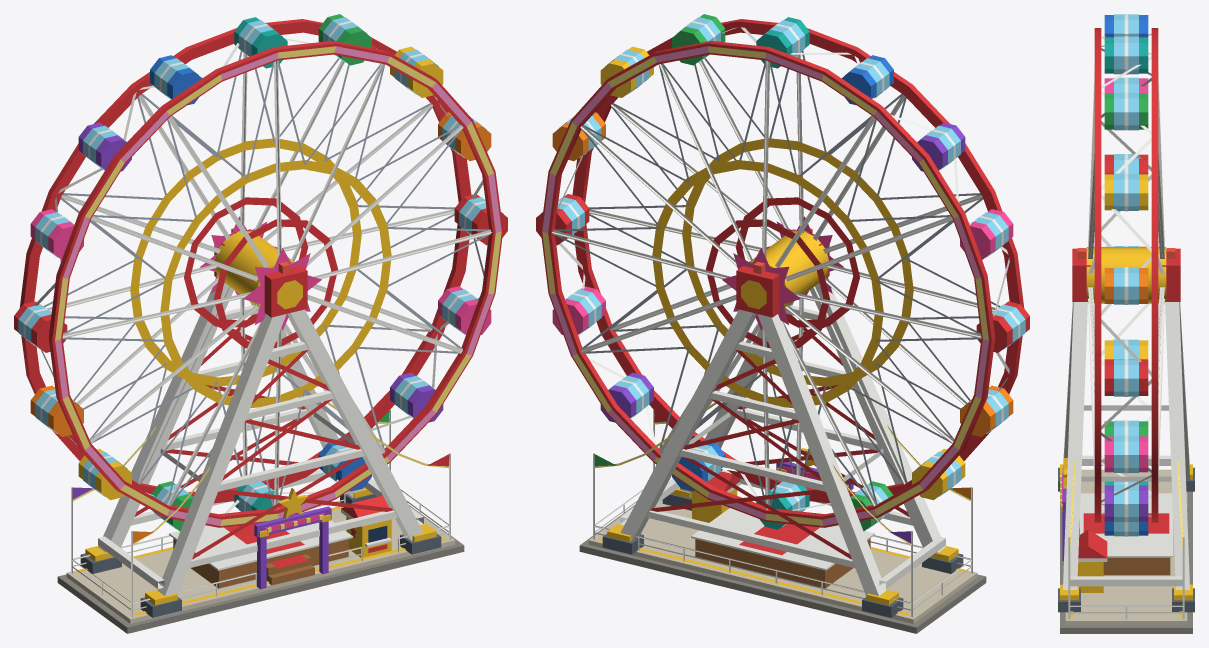
File: ferris_wheel.glb
3 views of the same model, side by side, from view 1: azimuth 30°, elevation 25°; view 2: azimuth 150°, elevation 25°; view 3: azimuth 270°, elevation 25° (orthographic). The views are drawn at different scales.
Parts seen in each view (by area): view 1: Wheel, Body; view 2: Wheel, Body; view 3: Wheel, Body.
Boxes of the visible parts, x1,y1,x2,y2 form: Wheel: (14,14,507,531); Body: (57,228,464,633); Wheel: (536,14,1029,531); Body: (579,228,986,633); Wheel: (1086,14,1166,536); Body: (1058,248,1194,633).
Size of the model in its own units: 5.47 by 5.98 by 1.44.
